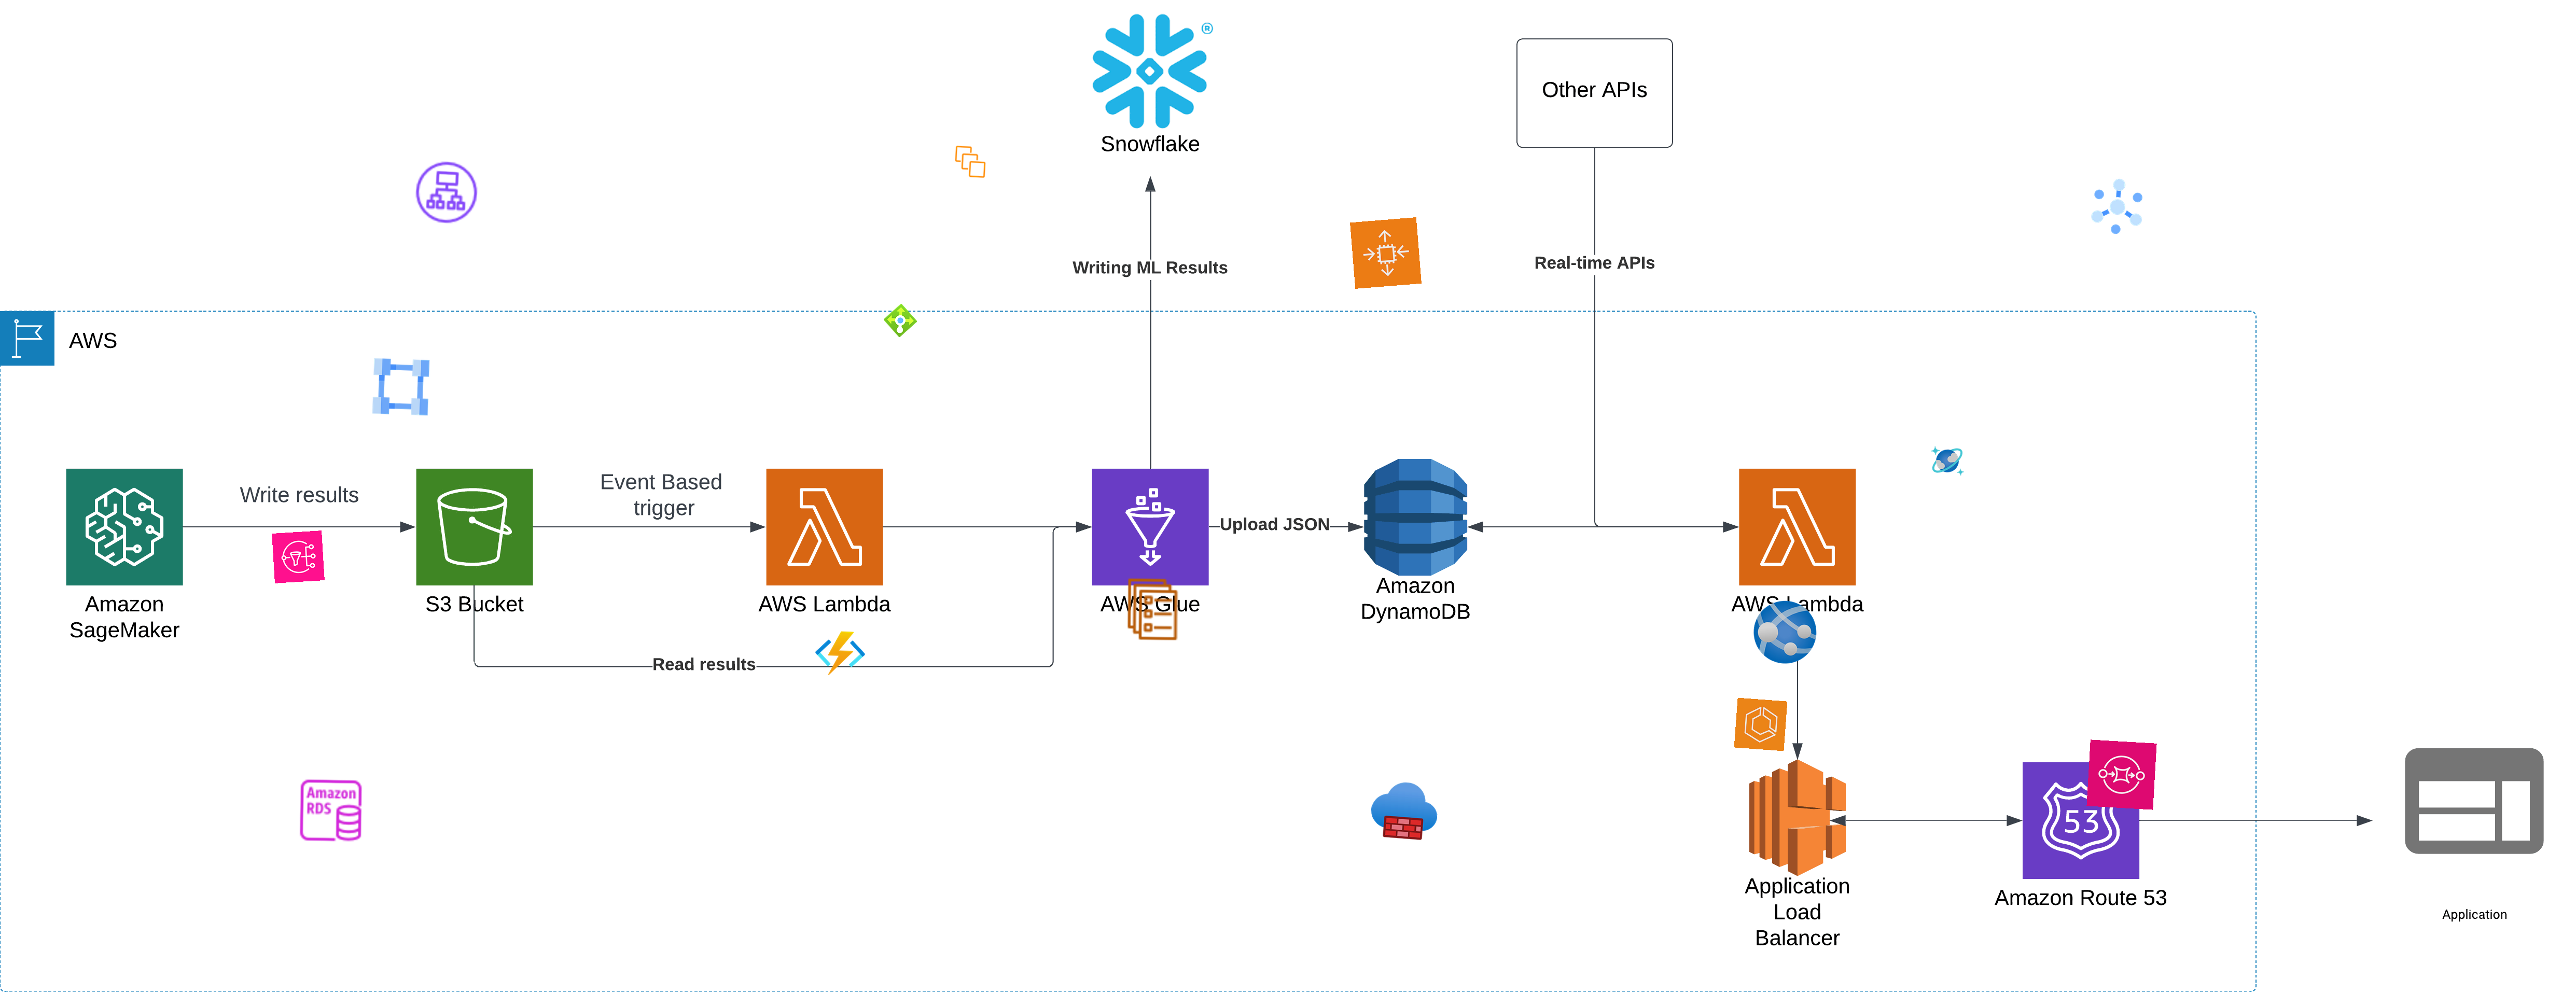aws_amazon_ec2_auto_scaling: (1350, 217, 1421, 289)
aws_amazon_elastic_container_service: (1733, 698, 1787, 751)
aws_amazon_simple_notification_service: (271, 530, 325, 583)
aws_amazon_simple_queue_service: (2086, 739, 2157, 810)
aws_aurora_amazon_rds_instance: (297, 777, 365, 844)
aws_ec2_instances: (953, 145, 987, 179)
aws_elastic_container_service_service: (1119, 575, 1186, 644)
aws_elastic_load_balancing_application_load_balancer: (411, 158, 481, 228)
azure_app_services: (1750, 596, 1820, 668)
azure_cosmos_db: (1929, 443, 1965, 480)
azure_firewalls: (1368, 775, 1441, 846)
azure_function_apps: (815, 627, 866, 680)
azure_load_balancers: (882, 302, 918, 338)
gcp_pubsub: (2081, 171, 2154, 241)
gcp_virtual_private_cloud: (366, 351, 435, 422)
